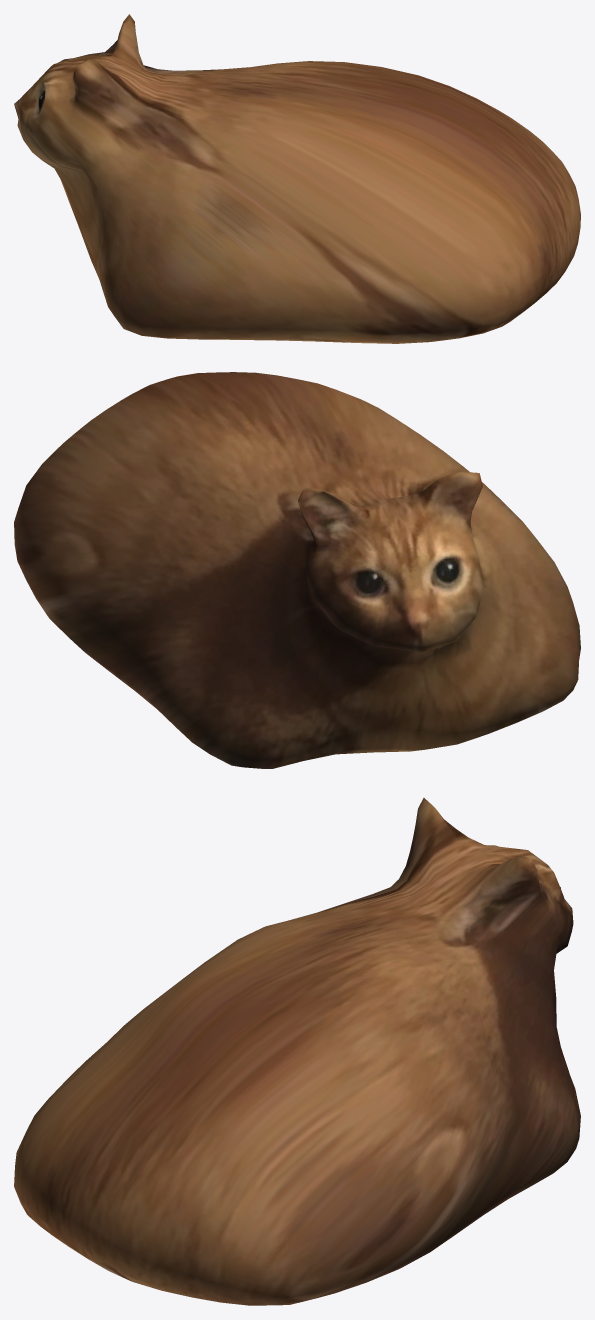
The model's file is gwa.glb.
3 views of the same model, one above another, from view 1: azimuth 30°, elevation 25°; view 2: azimuth 150°, elevation 25°; view 3: azimuth 270°, elevation 25° (orthographic). The views are drawn at different scales.
Parts seen in each view (by area): view 1: gwgw; view 2: gwgw; view 3: gwgw.
Boxes of the visible parts, <box> form: gwgw: <box>14,14,580,343</box>; gwgw: <box>14,372,580,768</box>; gwgw: <box>14,798,580,1305</box>.
Bounding box in the file's own units: 4.85 × 2.51 × 4.38.
Materials: 1 (1 with a texture image).
